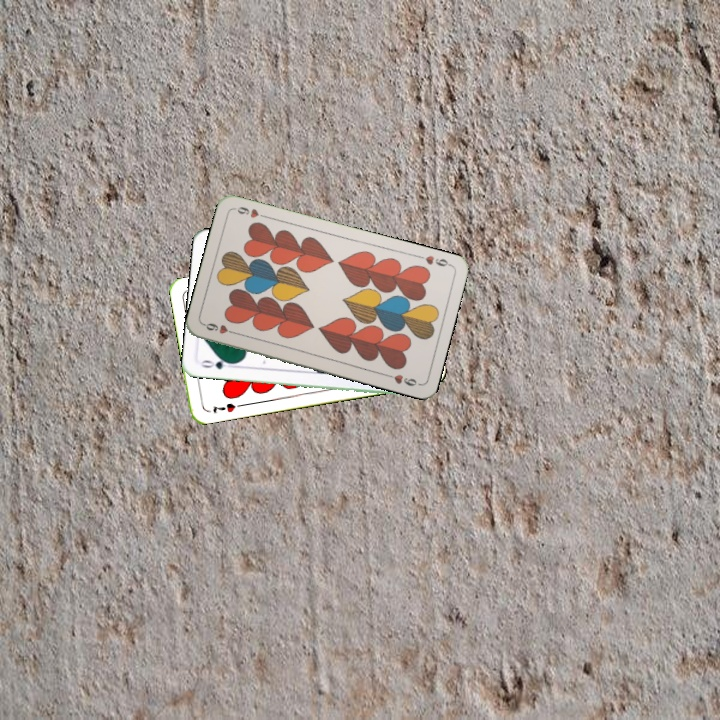GO: (197, 355, 237, 372)
H7: (209, 399, 238, 416)
H9: (200, 319, 240, 337), (414, 251, 454, 269)
